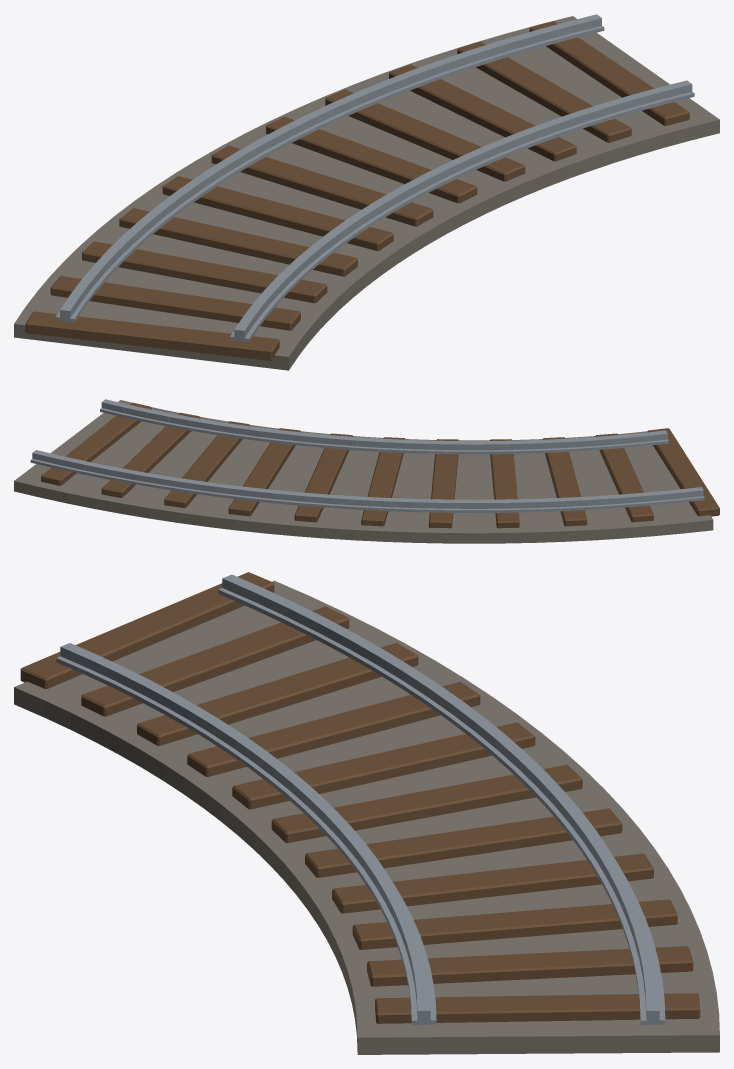
The model's file is rail_virage_45_b.glb.
3 views of the same model, one above another, from view 1: azimuth 30°, elevation 25°; view 2: azimuth 150°, elevation 25°; view 3: azimuth 270°, elevation 25° (orthographic). The views are drawn at different scales.
Visible parts, largest first — view 1: rail_ballast.010, rail_traverse.010, rail_rail.010; view 2: rail_ballast.010, rail_traverse.010, rail_rail.010; view 3: rail_ballast.010, rail_traverse.010, rail_rail.010.
Part boxes in pixels (x1,y1,x2,y2): rail_ballast.010: (14, 16, 719, 370); rail_traverse.010: (25, 21, 689, 360); rail_rail.010: (55, 14, 694, 342); rail_ballast.010: (14, 400, 713, 543); rail_traverse.010: (41, 402, 719, 528); rail_rail.010: (30, 399, 704, 512); rail_ballast.010: (14, 580, 719, 1054); rail_traverse.010: (20, 572, 700, 1023); rail_rail.010: (56, 574, 665, 1024).
Size of what is drawn, in the model's own units: 2.84 by 0.12 by 1.85.
